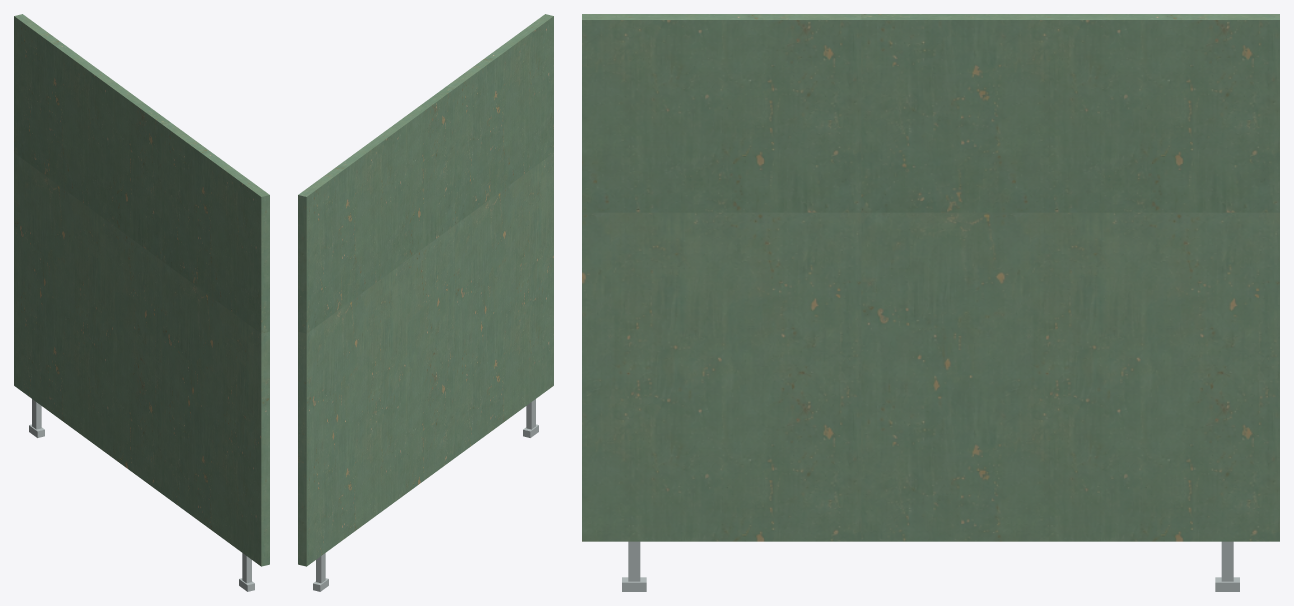
File: bath-stall-panel.gltf
The picture shows the model from 3 angles, left to right: view 1: azimuth 30°, elevation 25°; view 2: azimuth 150°, elevation 25°; view 3: azimuth 270°, elevation 25°; orthographic projection. The views are drawn at different scales.
Parts seen in each view (by area): view 1: partition-paint, fittings-metal; view 2: partition-paint, fittings-metal; view 3: partition-paint, fittings-metal.
Part boxes in pixels (x1=…): partition-paint: x1=14, y1=14, x2=269, y2=566; fittings-metal: x1=29, y1=399, x2=254, y2=591; partition-paint: x1=298, y1=14, x2=553, y2=566; fittings-metal: x1=313, y1=399, x2=538, y2=591; partition-paint: x1=582, y1=14, x2=1279, y2=541; fittings-metal: x1=622, y1=541, x2=1239, y2=591.
Size of the model in its own units: 0.04 by 1.81 by 2.
Materials: 2 (1 with a texture image).
